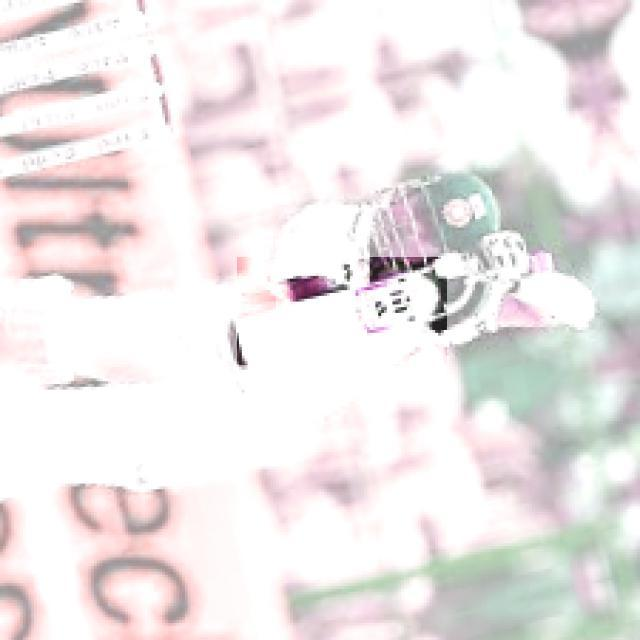bat: (225, 320, 248, 365)
toe: (220, 270, 490, 375)
